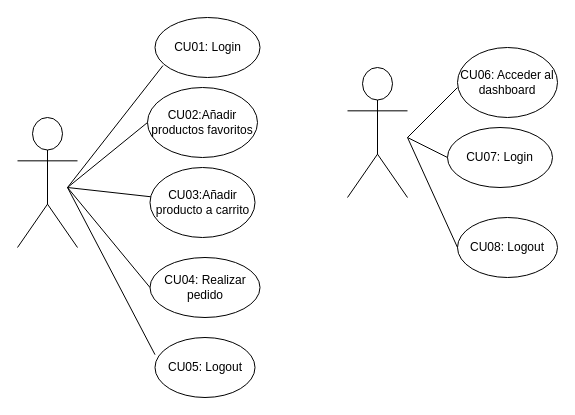
Some shapes in this 575 by 415 pixel diagram are drawn without their labels. The shapes that lost their labels are listed below. From the top down, each one's centre as x and y in pixels, then its label:
At point 377,132: "Administrador".
At point 47,182: "Usuario".
